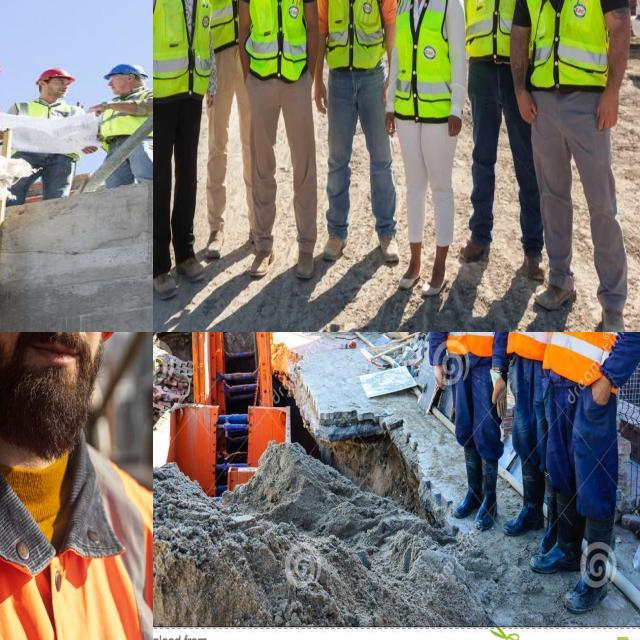boots: (528, 476, 590, 580), (566, 512, 614, 616), (504, 445, 552, 541), (450, 445, 483, 519), (475, 447, 500, 532)
face_nomask: (38, 78, 71, 100), (103, 72, 134, 91)
hand_glove: (486, 369, 512, 419)
hand_noglove: (593, 87, 623, 136), (512, 89, 540, 128), (428, 360, 452, 397), (314, 78, 331, 115), (384, 112, 400, 140), (448, 112, 462, 140)
head_helmet: (100, 62, 152, 78), (35, 66, 76, 81)
person: (0, 332, 153, 640), (524, 0, 624, 304), (562, 332, 640, 615), (464, 0, 537, 261), (317, 0, 390, 258), (393, 0, 458, 281), (246, 0, 313, 267), (153, 0, 207, 281), (438, 332, 509, 530), (208, 0, 255, 256), (6, 65, 88, 201), (508, 332, 559, 530), (101, 59, 153, 182)
shoes: (532, 278, 580, 319), (172, 246, 206, 286), (370, 225, 400, 269), (459, 230, 495, 266), (419, 262, 452, 300), (153, 256, 181, 298), (246, 243, 276, 281), (292, 242, 319, 282), (395, 256, 425, 292), (320, 228, 348, 264), (598, 301, 628, 332), (521, 248, 549, 281), (206, 224, 230, 259)
vest: (528, 0, 607, 84), (396, 0, 451, 118), (153, 0, 211, 95), (248, 0, 307, 77), (12, 104, 88, 161), (466, 0, 539, 59), (560, 332, 639, 380), (325, 0, 380, 66), (101, 92, 153, 140), (208, 0, 253, 48)
